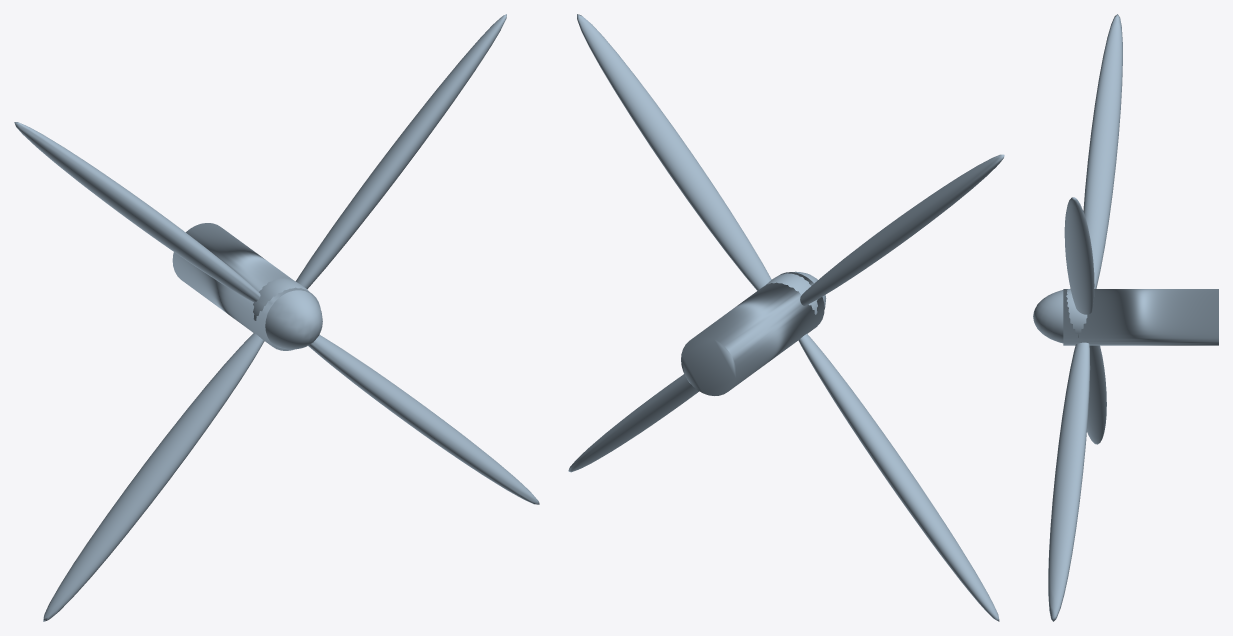
The model's file is airplane_part.obj.
The picture shows the model from 3 angles, left to right: view 1: azimuth 30°, elevation 25°; view 2: azimuth 150°, elevation 25°; view 3: azimuth 270°, elevation 25°; orthographic projection. The views are drawn at different scales.
Parts seen in each view (by area): view 1: Sphere.002; view 2: Sphere.002; view 3: Sphere.002.
Boxes of the visible parts, bbox=[...] form: Sphere.002: bbox=[14, 14, 539, 621]; Sphere.002: bbox=[568, 14, 1004, 621]; Sphere.002: bbox=[1033, 14, 1218, 621].
Size of the model in its own units: 3.25 by 3.24 by 1.26.
